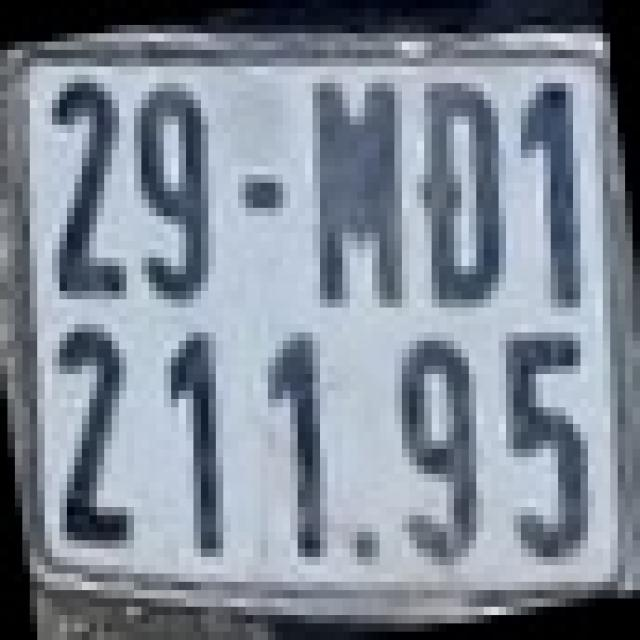1: (260, 332, 335, 557), (163, 332, 230, 557), (521, 83, 588, 308)
2: (52, 324, 141, 549), (45, 83, 126, 299)
5: (499, 332, 595, 557)
9: (394, 333, 484, 565), (134, 83, 216, 299)
D: (417, 75, 506, 307)
M: (305, 75, 409, 307)
